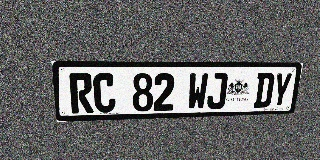2: (153, 73, 175, 111)
8: (133, 73, 154, 112)
C: (93, 73, 116, 113)
D: (253, 73, 275, 108)
J: (206, 73, 228, 109)
R: (69, 73, 94, 114)
W: (187, 73, 209, 110)
Y: (270, 73, 293, 107)
